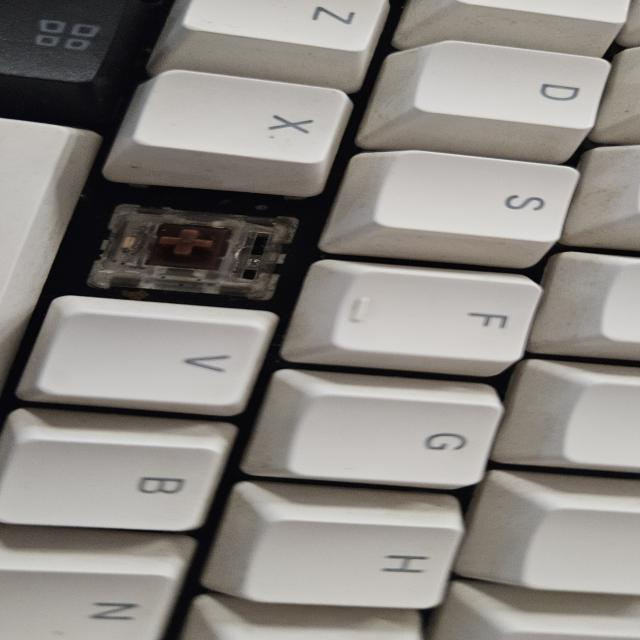C: (107, 204, 264, 282)
